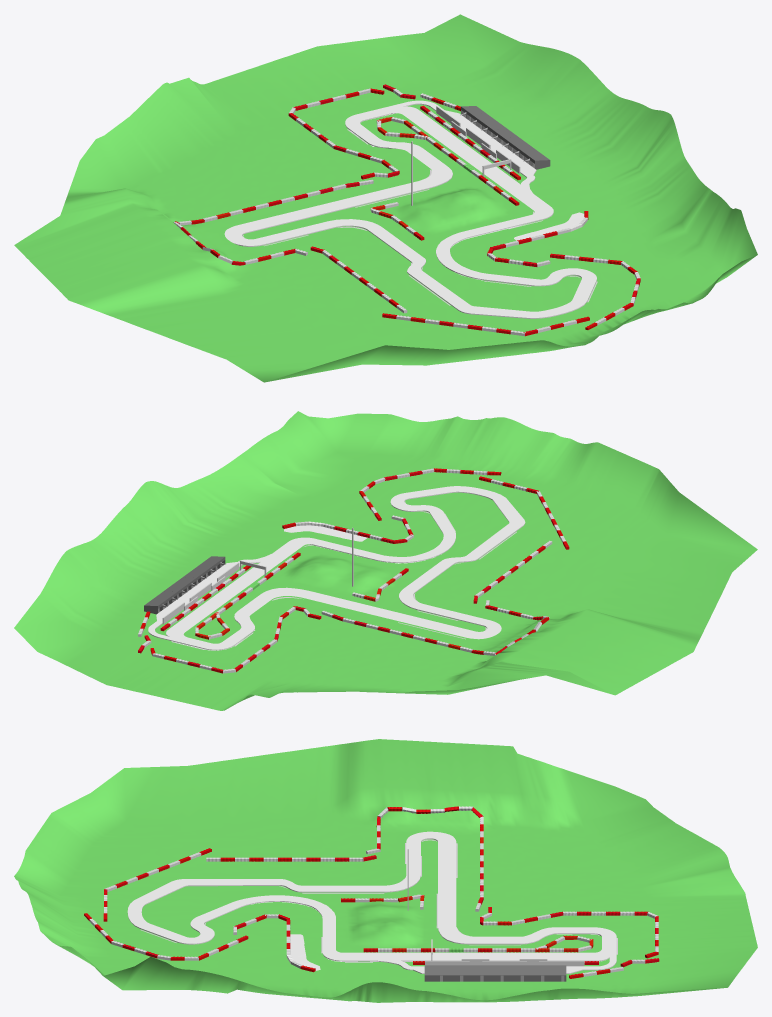
Rendered from Taas+circuit.glb.
3 views of the same model, one above another, from view 1: azimuth 30°, elevation 25°; view 2: azimuth 150°, elevation 25°; view 3: azimuth 270°, elevation 25° (orthographic). The views are drawn at different scales.
Visible parts, largest first — view 1: Grass, track, Pitlane; view 2: Grass, track, Pitlane, Grass.001; view 3: Grass, track, Pitlane, Grass.001.
Part boxes in pixels (x1,y1,x2,y2): Grass: (14, 14, 757, 382); track: (224, 106, 596, 318); Pitlane: (386, 100, 536, 192); Grass: (14, 411, 757, 710); track: (166, 486, 525, 650); Pitlane: (148, 554, 270, 642); Grass.001: (284, 525, 367, 541); Grass: (14, 739, 757, 1002); track: (127, 831, 616, 961); Pitlane: (376, 950, 616, 973); Grass.001: (290, 934, 320, 970).
Size of the model in its own units: 292 by 31.4 by 327.
